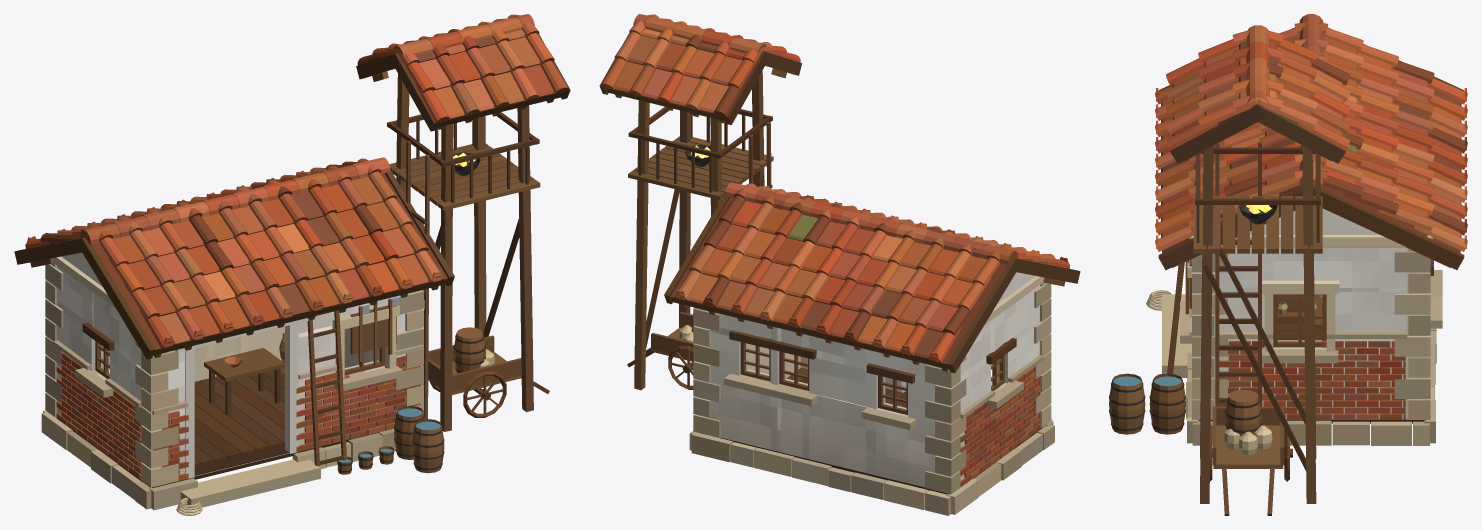
The model's file is civ_vigiles.glb.
3 renders of one model, left to right at view 1: azimuth 30°, elevation 25°; view 2: azimuth 150°, elevation 25°; view 3: azimuth 270°, elevation 25°, orthographic. The views are drawn at different scales.
Visible parts, largest first — view 1: House, Rooms, Walls; view 2: House, Walls, Rooms; view 3: House, Walls, Rooms.
Part boxes in pixels (x1,y1,x2,y2): House: (14,14,570,515); Rooms: (108,326,377,466); Walls: (56,252,419,476); House: (599,14,1080,515); Walls: (697,272,1040,487); Rooms: (748,344,906,407); House: (1109,14,1467,515); Walls: (1195,208,1427,419); Rooms: (1277,294,1322,340).
Size of the model in its own units: 5.76 by 4.78 by 3.7.
7 materials, 7 textured.
